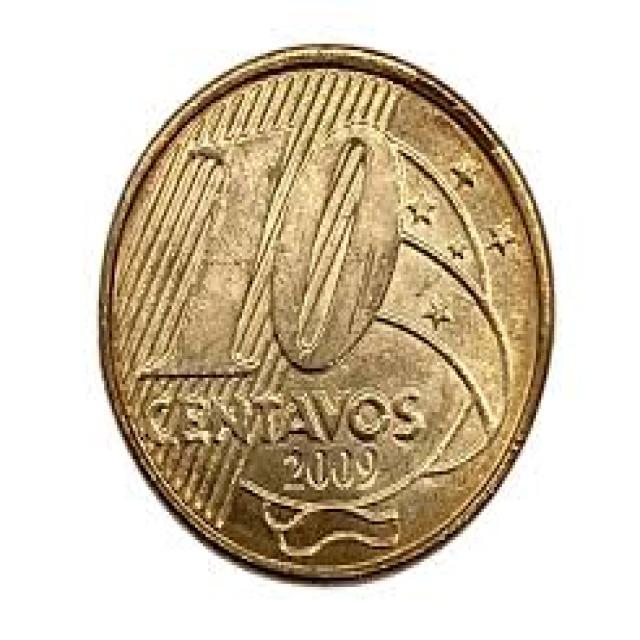10 cent: (98, 47, 548, 572)
